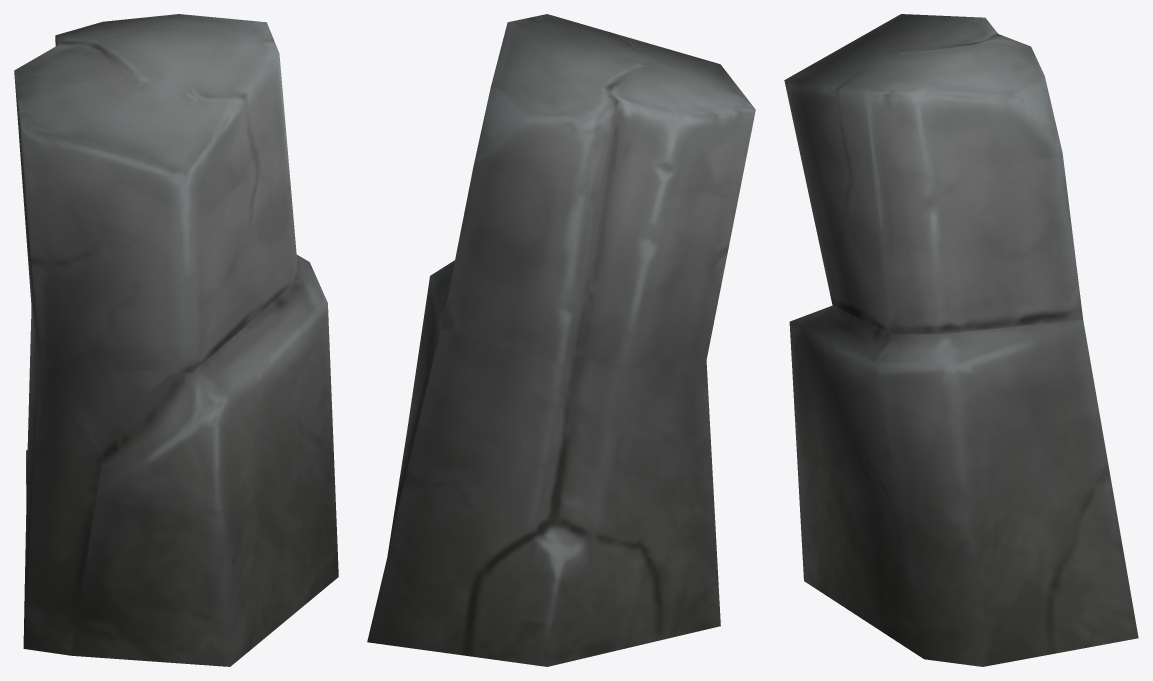
Rendered from Rock_formation5.fbx.
The picture shows the model from 3 angles, left to right: view 1: azimuth 30°, elevation 25°; view 2: azimuth 150°, elevation 25°; view 3: azimuth 270°, elevation 25°; orthographic projection. The views are drawn at different scales.
Parts seen in each view (by area): view 1: rock_lp_09; view 2: rock_lp_09; view 3: rock_lp_09.
Part boxes in pixels (box(x1,y1,x2,y2)): rock_lp_09: box(14, 14, 338, 666); rock_lp_09: box(367, 14, 755, 666); rock_lp_09: box(784, 14, 1138, 666).
Bounding box in the file's own units: 1.51 × 2.4 × 1.45.
